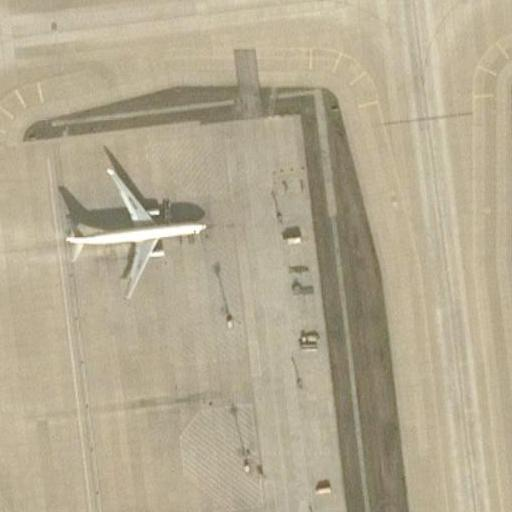Aircraft: (57, 167, 216, 299)
